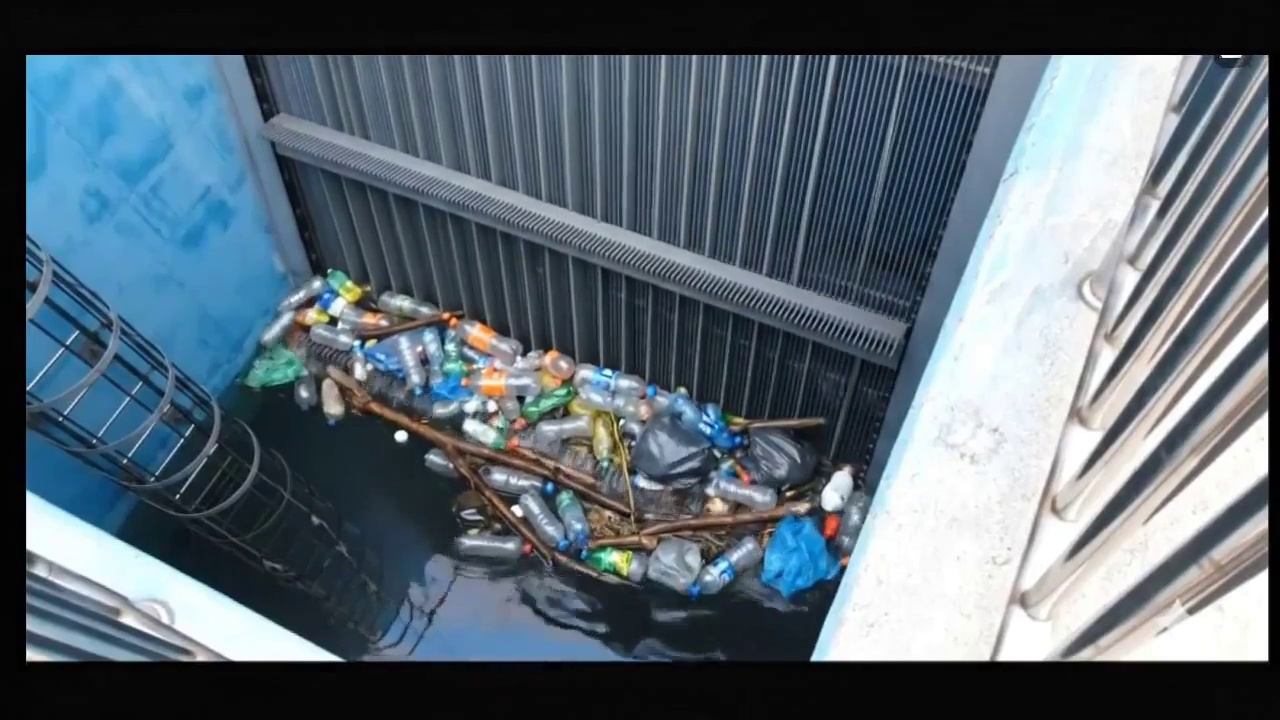debris: (233, 279, 863, 597)
